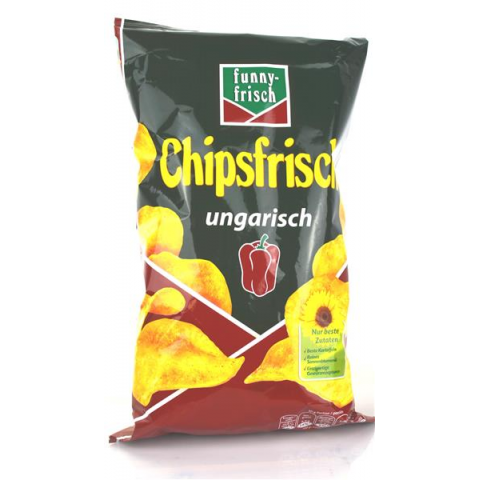chipsfrisch: (108, 15, 376, 445)
